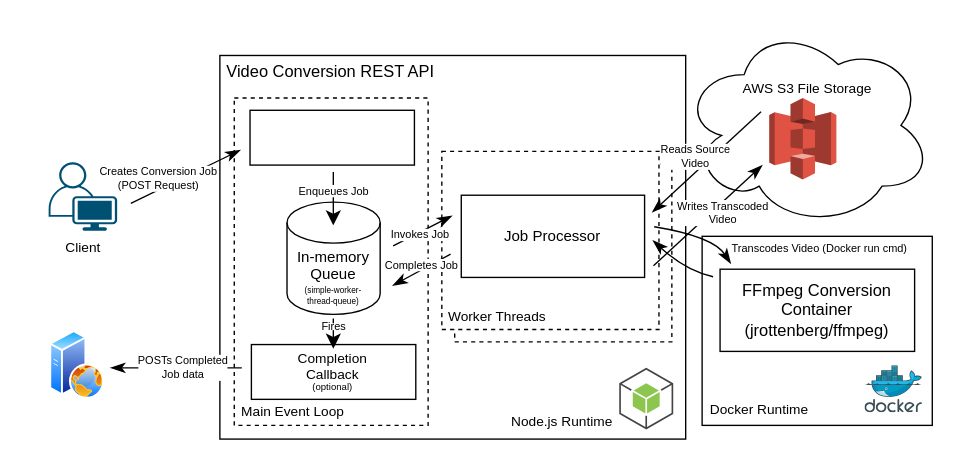
Some shapes in this 956 by 466 pixel diagram are drawn without their labels. The shapes that lost their labels are listed below. From the top down, each one's centre as x and y in pixels, then its label:
At [331,137]: "REST API (Express.js)".
At [76,364]: "External Systems".
